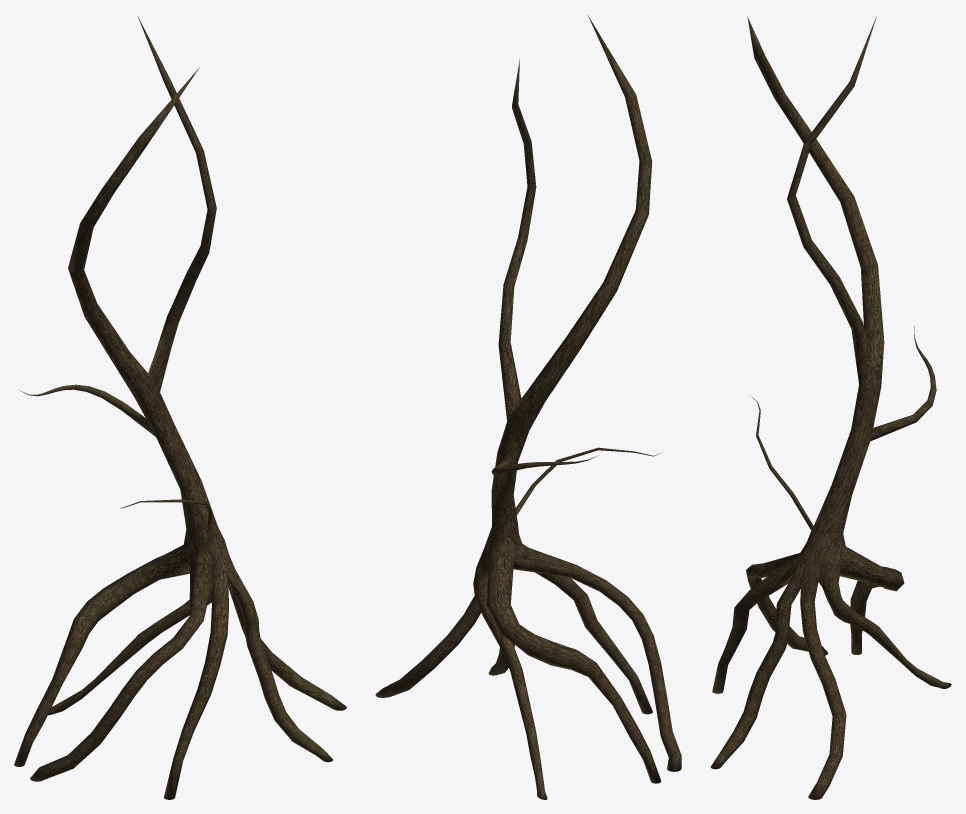
File: tree_pillar_mangrove.dae
3 views of the same model, side by side, from view 1: azimuth 30°, elevation 25°; view 2: azimuth 150°, elevation 25°; view 3: azimuth 270°, elevation 25° (orthographic).
Parts seen in each view (by area): view 1: polySurface13; view 2: polySurface13; view 3: polySurface13.
Part boxes in pixels (box(x1,y1,x2,y2)): polySurface13: box(14, 16, 346, 799); polySurface13: box(375, 15, 681, 799); polySurface13: box(710, 16, 951, 799).
Size of the model in its own units: 6.01 by 13.1 by 4.09.
